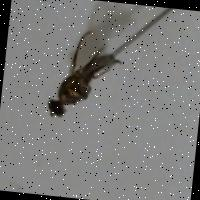Oriental-fruit-fly: (31, 14, 132, 130)
